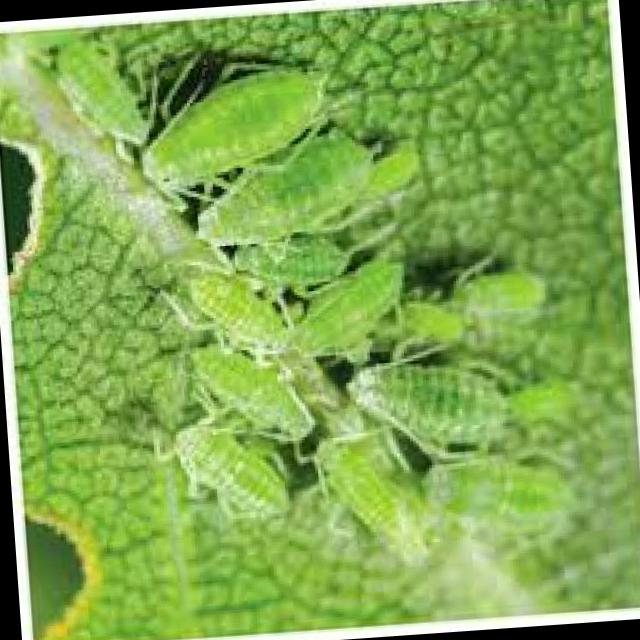aphid: (124, 66, 343, 210), (185, 120, 383, 252), (140, 406, 300, 530), (301, 428, 431, 568), (396, 434, 566, 540), (342, 352, 512, 449), (287, 254, 421, 364), (52, 28, 152, 158), (162, 280, 284, 367), (444, 248, 556, 328), (228, 227, 370, 289), (354, 146, 428, 210), (392, 296, 468, 351), (508, 371, 576, 418)
